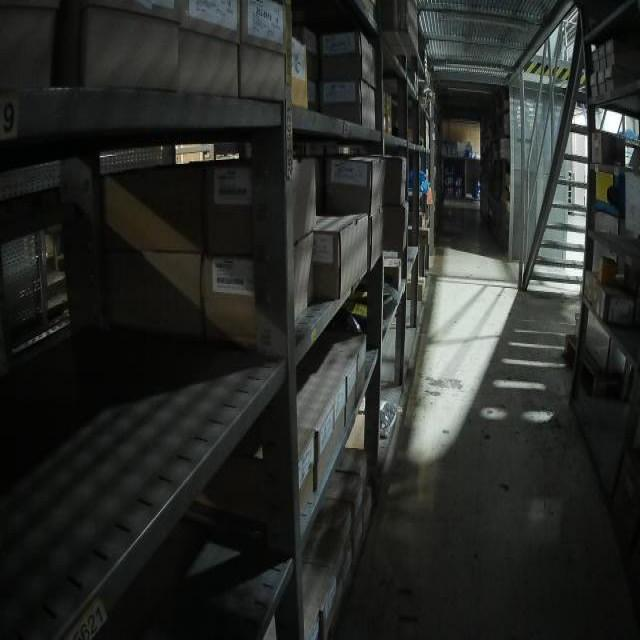pallet: (564, 334, 626, 401)
